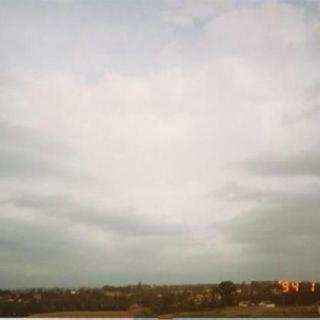Stratus: (0, 3, 320, 267)
